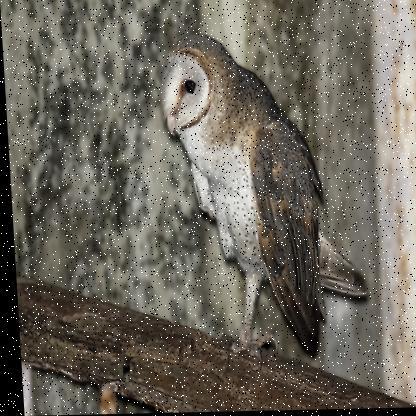Burung: (158, 29, 366, 362)
